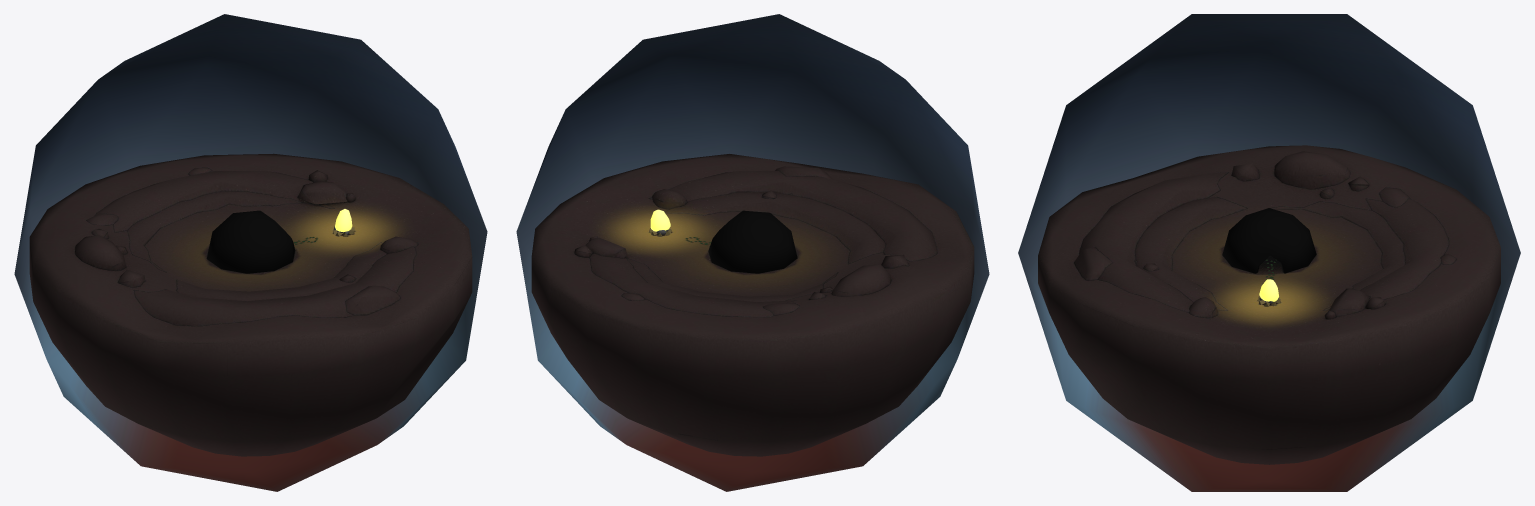
3 views of the same model, side by side, from view 1: azimuth 30°, elevation 25°; view 2: azimuth 150°, elevation 25°; view 3: azimuth 270°, elevation 25° (orthographic). The views are drawn at different scales.
Visible parts, largest first — view 1: ground.003, envirosphere.008, lodge.003; view 2: ground.003, envirosphere.008, lodge.003; view 3: ground.003, envirosphere.008, lodge.003.
Boxes of the visible parts, x1,y1,x2,y2 form: ground.003: [29, 153, 472, 456]; envirosphere.008: [14, 14, 487, 491]; lodge.003: [207, 210, 295, 273]; ground.003: [531, 154, 974, 456]; envirosphere.008: [516, 14, 989, 491]; lodge.003: [708, 210, 797, 273]; ground.003: [1038, 145, 1500, 464]; envirosphere.008: [1018, 14, 1520, 491]; lodge.003: [1222, 208, 1316, 273].
Bounding box in the file's own units: 13.02 × 13.69 × 13.69.
7 materials, 2 textured.
